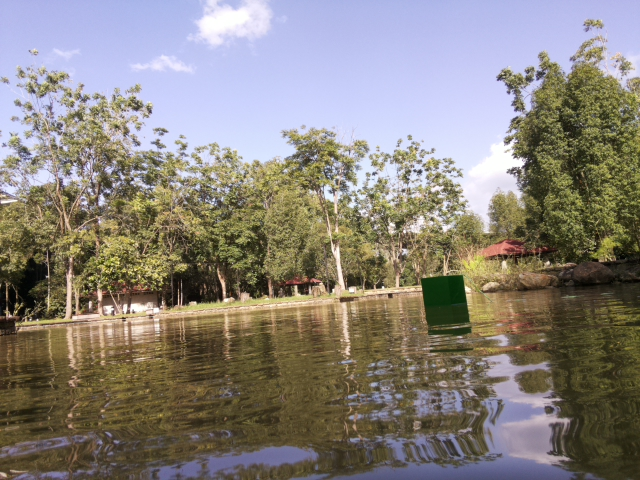obstacle: (420, 274, 467, 310)
